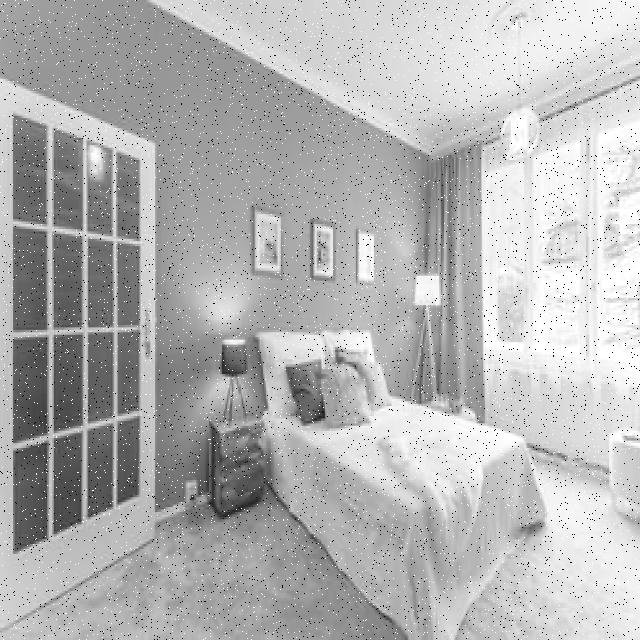bed: (247, 326, 548, 598)
